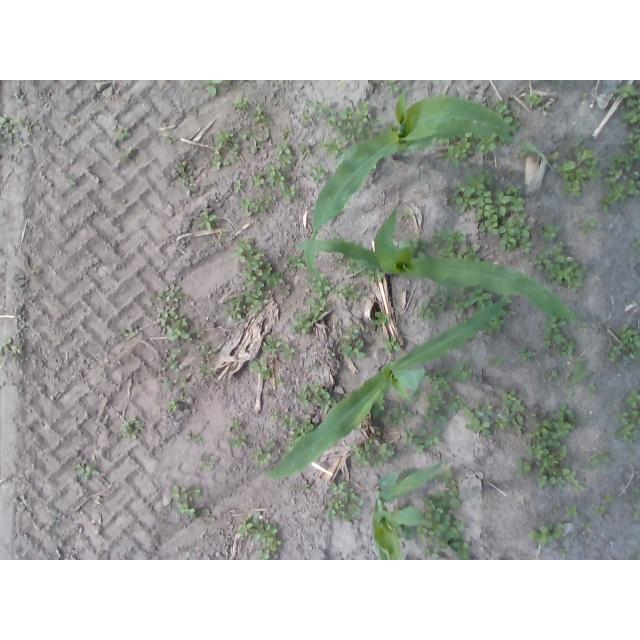Maize: (306, 83, 555, 295), (258, 297, 510, 480), (295, 200, 582, 322), (371, 460, 443, 561)
Weeds: (448, 167, 532, 253), (525, 402, 583, 490), (236, 236, 284, 314), (533, 244, 583, 293), (328, 99, 380, 142), (237, 513, 283, 552), (605, 141, 640, 182), (616, 389, 640, 441), (598, 179, 638, 210), (295, 381, 332, 411), (615, 83, 640, 124), (559, 160, 585, 197), (567, 355, 589, 397), (427, 515, 465, 538), (462, 403, 491, 433), (528, 522, 562, 546), (448, 136, 476, 164), (149, 284, 183, 307), (568, 137, 596, 163), (166, 317, 193, 342), (306, 274, 331, 298), (74, 459, 99, 482), (341, 337, 366, 359), (469, 288, 495, 309), (151, 306, 178, 326), (307, 95, 335, 114), (373, 443, 396, 466), (451, 360, 475, 382), (120, 418, 143, 440), (212, 129, 240, 147), (619, 325, 640, 349), (429, 371, 451, 393), (423, 497, 444, 520), (431, 492, 462, 507), (253, 446, 272, 470), (423, 391, 447, 410), (392, 402, 413, 423), (447, 391, 466, 414), (442, 225, 466, 243), (586, 452, 611, 468), (619, 126, 640, 145), (421, 411, 447, 426), (353, 446, 372, 466), (421, 427, 441, 446), (544, 316, 566, 333), (452, 540, 471, 559), (225, 298, 243, 318), (307, 299, 326, 317), (262, 335, 281, 353), (279, 411, 298, 429), (479, 137, 498, 155), (556, 341, 577, 357), (384, 413, 406, 428), (399, 237, 429, 248), (329, 137, 347, 155), (310, 164, 328, 182), (418, 301, 435, 320), (439, 288, 458, 305), (196, 212, 216, 228), (342, 284, 362, 300), (514, 458, 531, 476), (162, 353, 179, 371), (577, 214, 596, 230), (176, 503, 196, 518), (290, 322, 313, 335), (206, 80, 223, 97), (239, 198, 257, 214), (485, 320, 504, 335), (457, 292, 471, 312), (586, 161, 600, 181), (382, 80, 399, 96), (494, 100, 510, 117), (501, 387, 516, 405), (170, 343, 189, 357), (458, 251, 482, 262), (121, 146, 137, 162), (172, 484, 188, 500), (544, 224, 561, 239), (287, 255, 305, 269), (230, 435, 247, 449), (437, 246, 455, 259), (510, 397, 526, 411), (430, 229, 443, 246), (268, 165, 279, 185), (0, 337, 12, 355), (295, 141, 310, 155), (607, 347, 621, 362), (176, 160, 187, 179), (520, 346, 533, 362), (446, 480, 459, 496), (525, 93, 541, 106), (432, 539, 449, 551), (117, 125, 131, 139), (333, 482, 347, 496), (547, 367, 560, 382), (300, 418, 315, 431), (251, 106, 263, 122), (506, 408, 515, 429), (441, 466, 452, 483), (233, 98, 247, 111), (278, 141, 291, 155), (199, 362, 213, 375), (350, 501, 363, 515), (477, 402, 492, 414), (283, 344, 294, 360), (414, 438, 424, 455), (566, 506, 579, 519), (375, 311, 387, 325), (324, 506, 336, 520), (278, 155, 293, 166), (369, 271, 384, 282), (121, 328, 139, 337), (211, 154, 221, 170), (284, 185, 297, 197), (293, 428, 305, 441), (179, 373, 190, 387), (259, 192, 273, 203), (350, 259, 361, 273), (260, 365, 271, 379), (406, 428, 415, 445), (488, 357, 505, 366), (425, 547, 440, 557), (553, 334, 568, 344), (231, 417, 243, 429), (249, 360, 260, 373), (257, 549, 270, 560), (544, 333, 553, 348), (591, 504, 606, 513), (65, 173, 77, 184), (192, 327, 204, 338), (2, 127, 13, 138), (254, 175, 265, 186), (24, 119, 34, 131), (319, 139, 329, 151), (417, 526, 427, 538), (345, 326, 359, 334), (169, 133, 180, 143), (284, 441, 295, 451), (435, 303, 446, 313), (235, 179, 242, 194), (335, 501, 345, 511), (276, 171, 285, 182), (168, 402, 179, 411), (629, 350, 640, 359), (633, 505, 640, 519), (203, 346, 215, 354), (516, 412, 524, 424), (10, 344, 22, 352), (18, 142, 27, 152), (331, 256, 341, 265), (404, 527, 413, 537), (368, 434, 378, 443), (496, 418, 505, 428), (578, 322, 588, 331), (431, 289, 441, 298), (334, 287, 342, 298), (163, 377, 171, 388), (339, 511, 350, 519), (586, 383, 594, 394), (403, 208, 414, 216), (578, 92, 587, 101), (560, 548, 569, 557), (13, 118, 23, 126), (303, 111, 311, 121), (296, 312, 306, 320), (517, 425, 524, 436), (266, 127, 271, 142), (32, 266, 41, 274), (192, 486, 200, 495), (302, 486, 310, 495), (604, 494, 612, 503), (631, 490, 640, 498), (111, 121, 118, 131), (265, 114, 272, 124), (229, 149, 239, 156), (251, 142, 261, 149), (466, 247, 476, 254), (349, 489, 355, 500), (415, 251, 426, 257), (634, 239, 640, 250), (0, 116, 8, 124), (239, 134, 248, 141), (277, 378, 284, 387), (178, 395, 187, 402), (183, 178, 190, 186), (332, 230, 339, 238), (271, 410, 278, 418), (195, 439, 203, 446), (252, 138, 263, 143), (313, 361, 320, 368), (623, 357, 630, 364), (363, 268, 369, 276), (329, 348, 335, 356), (208, 461, 216, 467), (264, 389, 269, 398), (266, 441, 275, 446), (344, 494, 349, 503), (527, 414, 536, 419), (231, 157, 238, 163), (258, 358, 264, 365), (228, 425, 234, 432), (585, 522, 592, 528), (73, 116, 78, 124), (223, 80, 233, 84), (223, 159, 229, 165), (259, 205, 265, 211), (328, 499, 334, 505), (194, 110, 199, 117), (198, 345, 205, 350), (513, 419, 518, 426), (14, 127, 19, 133), (286, 128, 291, 133), (552, 508, 557, 513), (220, 231, 223, 239), (205, 466, 212, 469), (280, 181, 284, 185), (204, 243, 208, 246)
